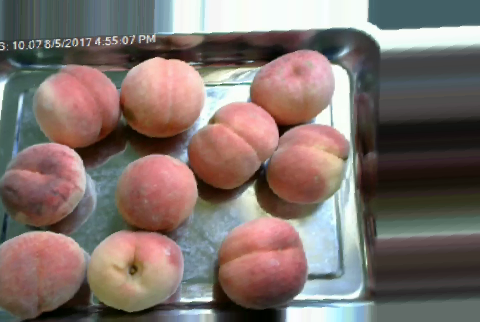Peach: (215, 215, 309, 309), (90, 227, 182, 314), (189, 101, 277, 189), (2, 142, 86, 230), (120, 54, 205, 139), (263, 122, 347, 207), (34, 64, 118, 148), (251, 48, 335, 126), (117, 153, 195, 233)
